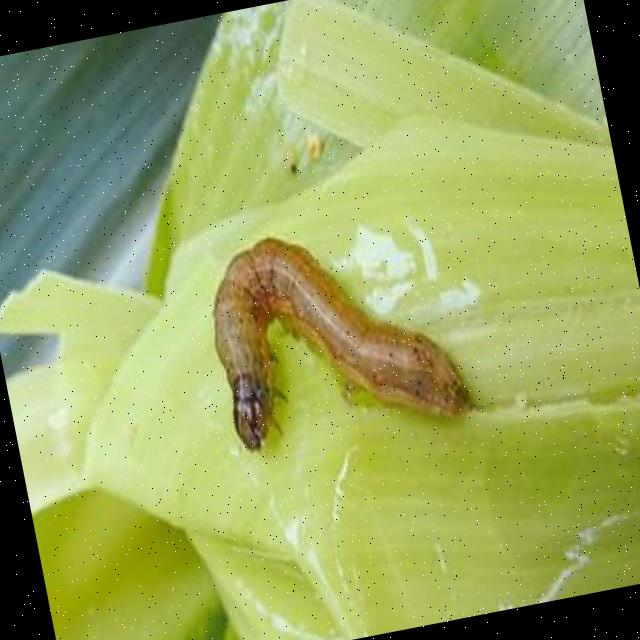worm: (196, 207, 476, 468)
